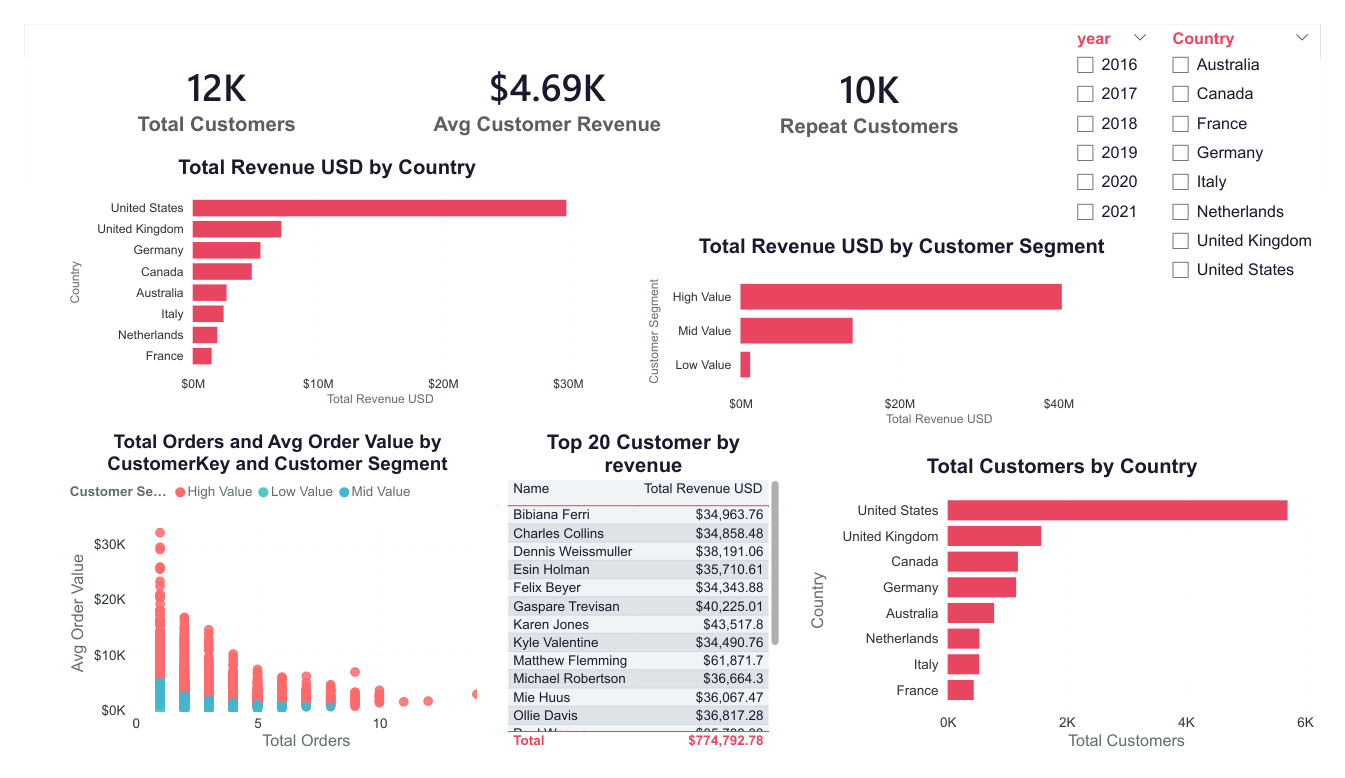

What the dashboard file says about the page in this screenshot:
{"tool":"powerbi","page":{"name":"Customer analysis","canvas":[1280,720],"ordinal":3},"visuals":[{"type":"slicer","fields":{"Values":["dim_date.year"]},"box":[1026.6,0,93.9,262.3],"z":0},{"type":"slicer","fields":{"Values":["Customers.Country"]},"box":[1120.5,0,160.3,262.3],"z":1000},{"type":"cardVisual","fields":{"Data":["Table_measure.Total Customers"]},"box":[39.8,15.9,300.6,114.5],"z":2000},{"type":"cardVisual","fields":{"Data":["Table_measure.Repeat Customers"]},"box":[684,15.9,300.6,117.7],"z":3000},{"type":"cardVisual","fields":{"Data":["Table_measure.Avg Customer Revenue"]},"box":[367.4,15.9,299,114.5],"z":4000},{"type":"clusteredBarChart","fields":{"Y":["Table_measure.Total Revenue USD"],"Category":["Customers.Country"]},"box":[39.8,130.4,518.5,251.3],"z":5000},{"type":"tableEx","title":"Top 20 Customer by revenue","fields":{"Values":["Customers.Name","Table_measure.Total Revenue USD"]},"box":[472.4,400.8,278.4,319.7],"z":6000},{"type":"clusteredBarChart","fields":{"Category":["Customers.Country"],"Y":["Table_measure.Total Customers"]},"box":[771.4,424.7,507.4,295.9],"z":7000},{"type":"scatterChart","fields":{"Category":["Customers.CustomerKey"],"X":["Table_measure.Total Orders"],"Y":["Table_measure.Avg Order Value"],"Series":["Customers.Customer Segment"]},"box":[39.8,400.8,419.9,319.7],"z":8000},{"type":"clusteredBarChart","fields":{"Category":["Customers.Customer Segment"],"Y":["Table_measure.Total Revenue USD"]},"box":[612.4,208.4,509,192.5],"z":9000}]}

Visuals, with their boxes in screenshot pixels (x1, y1, x2, y2), scaled from the page's 1280x720 canvas onto the 1345x778 screenshot:
slicer - dim_date.year: 1079/0/1177/283
slicer - Customers.Country: 1177/0/1344/283
cardVisual - Table_measure.Total Customers: 42/17/358/141
cardVisual - Table_measure.Repeat Customers: 719/17/1035/144
cardVisual - Table_measure.Avg Customer Revenue: 386/17/700/141
clusteredBarChart - Table_measure.Total Revenue USD x Customers.Country: 42/141/587/412
"Top 20 Customer by revenue" tableEx: 496/433/789/777
clusteredBarChart - Customers.Country x Table_measure.Total Customers: 811/459/1344/777
scatterChart - Customers.CustomerKey x Table_measure.Total Orders: 42/433/483/777
clusteredBarChart - Customers.Customer Segment x Table_measure.Total Revenue USD: 643/225/1178/433
